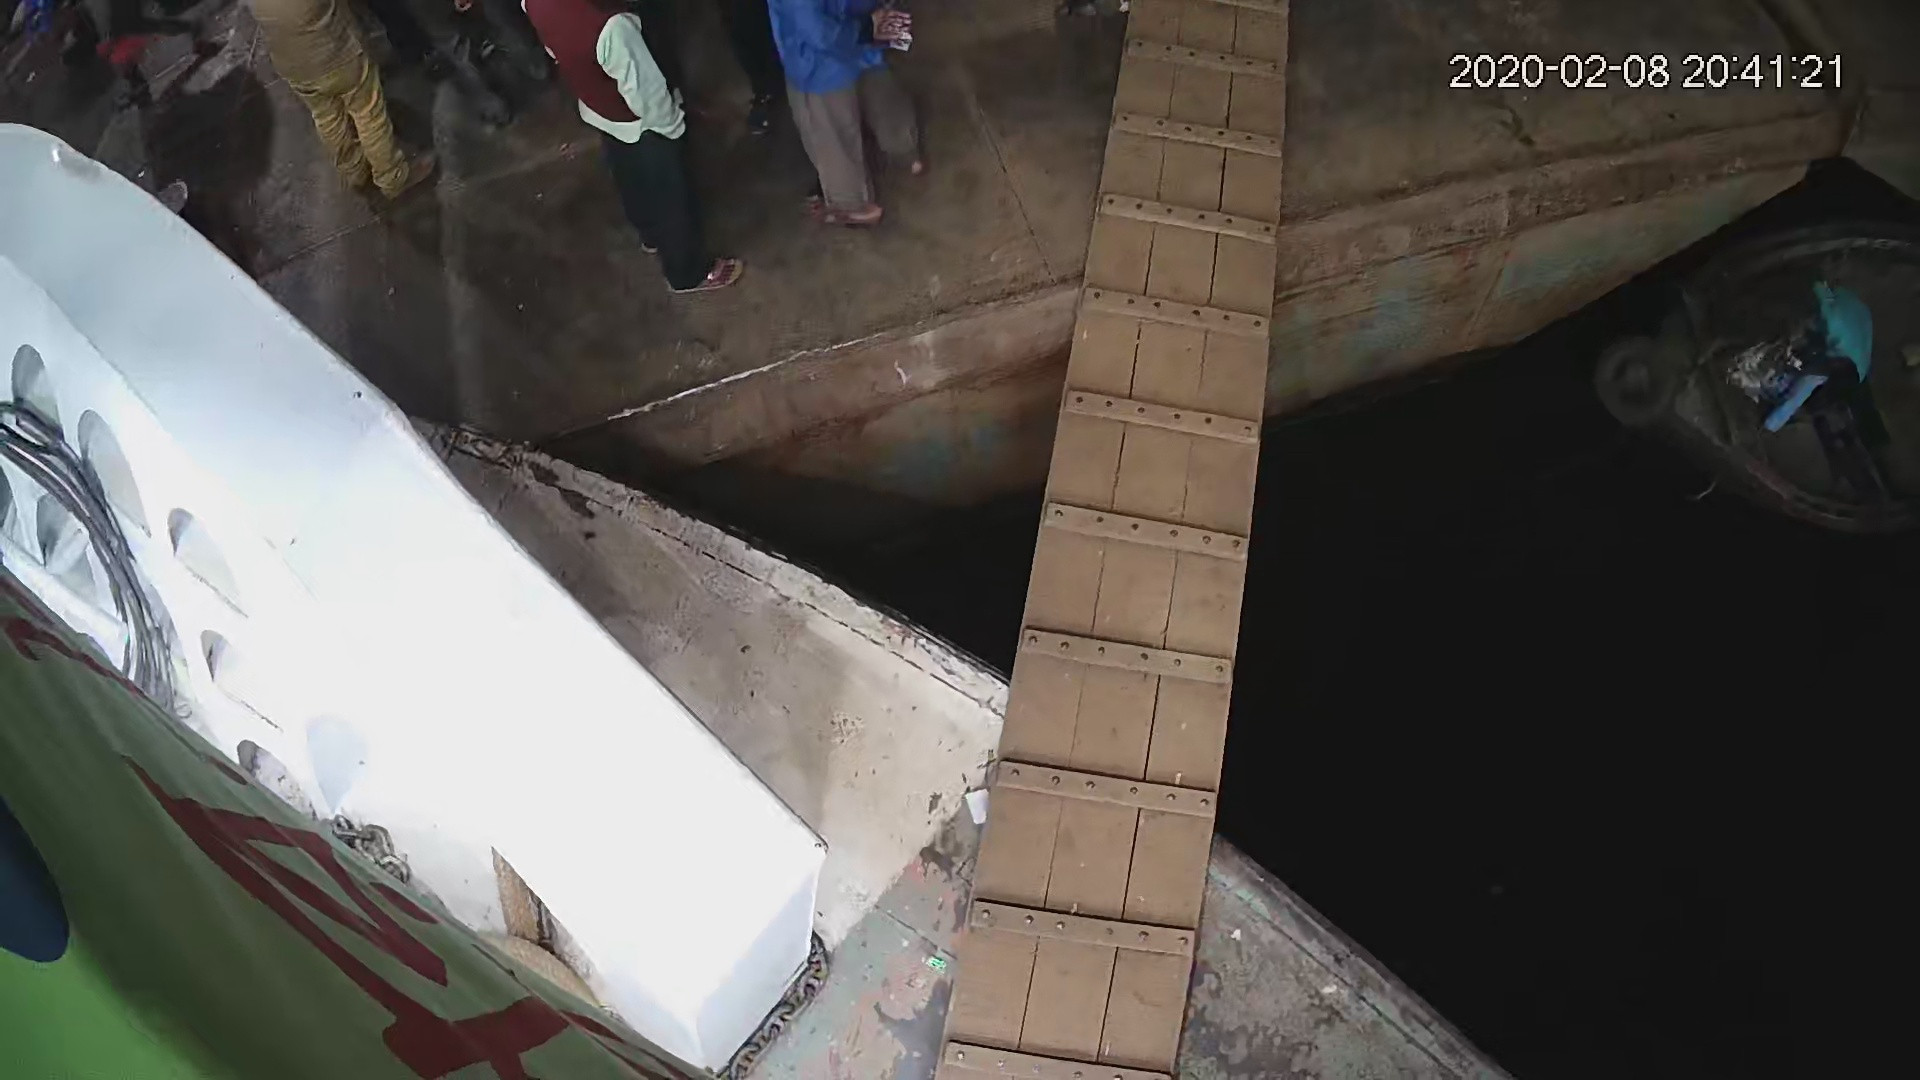person: (526, 1, 756, 299), (1744, 272, 1879, 432)
